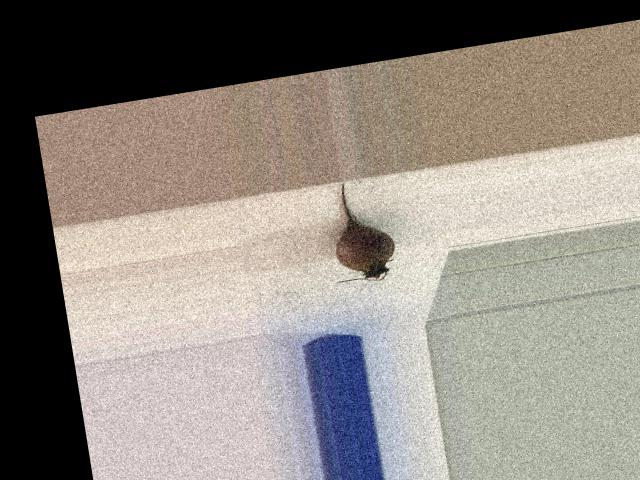beet: (320, 176, 399, 287)
